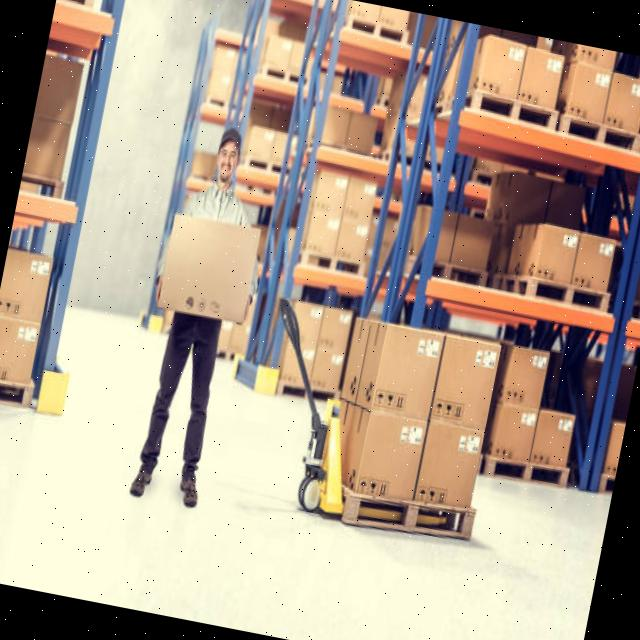Wooden-Pallets: (340, 489, 476, 544), (478, 438, 579, 501), (496, 270, 611, 317), (470, 80, 564, 133), (558, 107, 640, 161), (296, 243, 372, 286), (340, 16, 414, 48)
